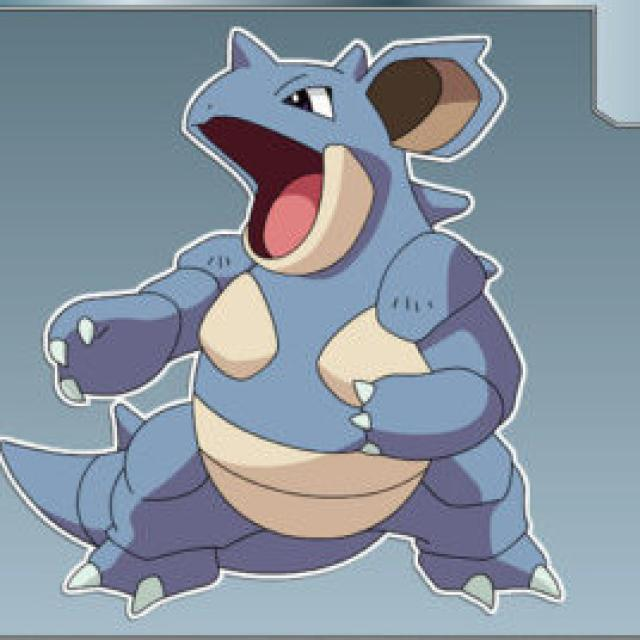Nidoqueen: (93, 44, 588, 616)
